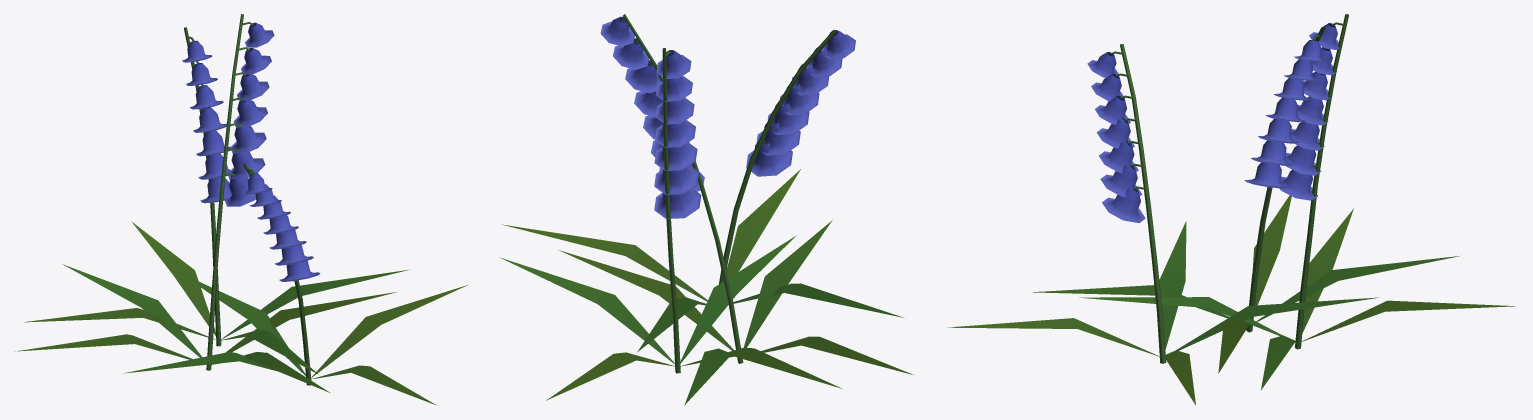
File: flower-bluebell-b.lod0.glb
3 renders of one model, left to right at view 1: azimuth 30°, elevation 25°; view 2: azimuth 150°, elevation 25°; view 3: azimuth 270°, elevation 25°, orthographic. The views are drawn at different scales.
Parts seen in each view (by area): view 1: flower-bluebell-b.lod0; view 2: flower-bluebell-b.lod0; view 3: flower-bluebell-b.lod0.
Boxes of the visible parts, bbox=[...] form: flower-bluebell-b.lod0: bbox=[15, 14, 467, 405]; flower-bluebell-b.lod0: bbox=[500, 14, 913, 405]; flower-bluebell-b.lod0: bbox=[947, 14, 1515, 405].
Bounding box in the file's own units: 0.4648 × 0.3407 × 0.5217.
